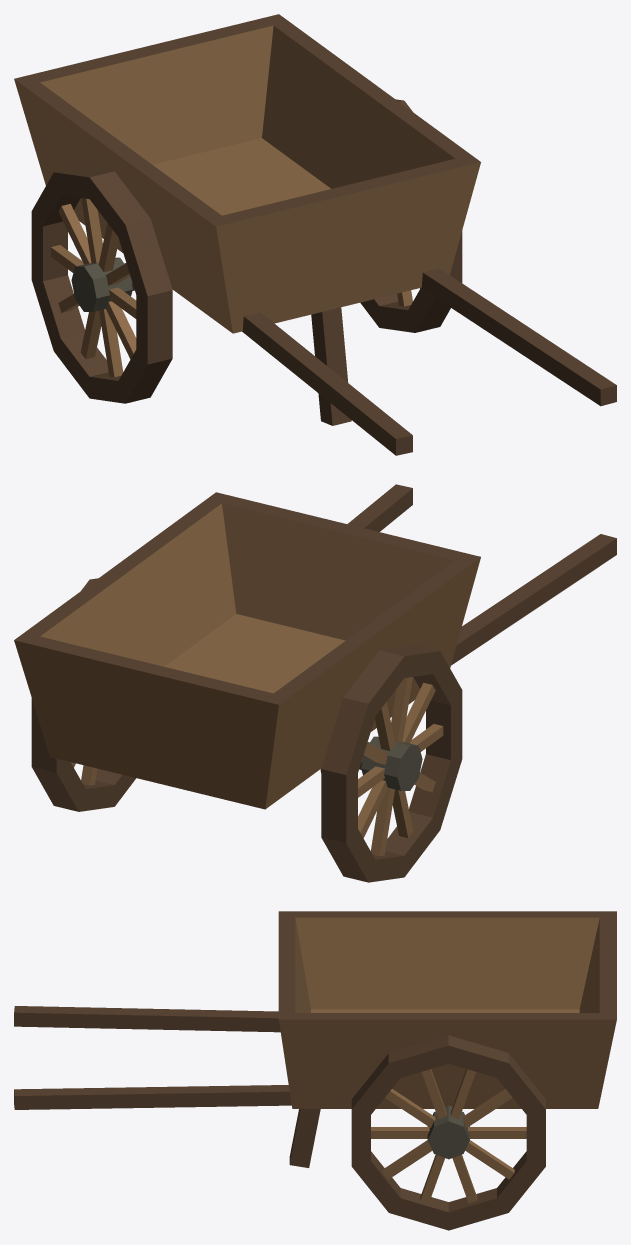
Rendered from handcart.glb.
3 views of the same model, one above another, from view 1: azimuth 30°, elevation 25°; view 2: azimuth 150°, elevation 25°; view 3: azimuth 270°, elevation 25° (orthographic). The views are drawn at different scales.
Visible parts, largest first — view 1: Handcart; view 2: Handcart; view 3: Handcart.
Part boxes in pixels (x1,y1,x2,y2): Handcart: (14,14,616,455); Handcart: (14,484,616,882); Handcart: (14,911,616,1230).
Bounding box in the file's own units: 1.35 × 0.949 × 2.58.
